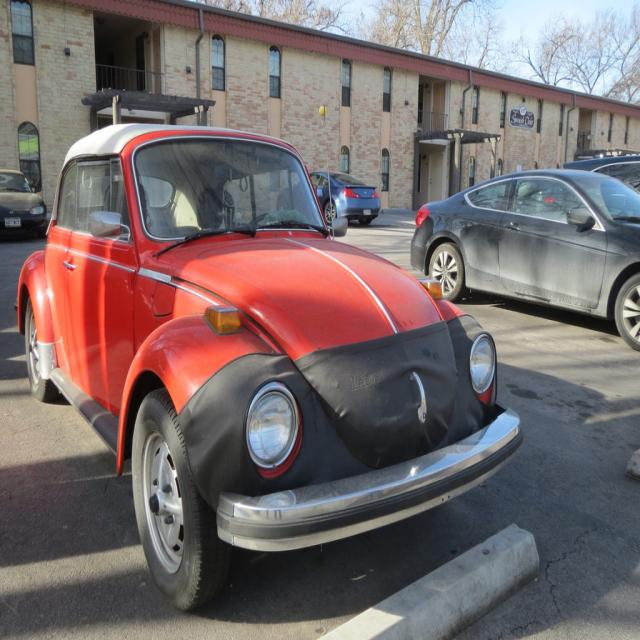car: (16, 120, 521, 612)
